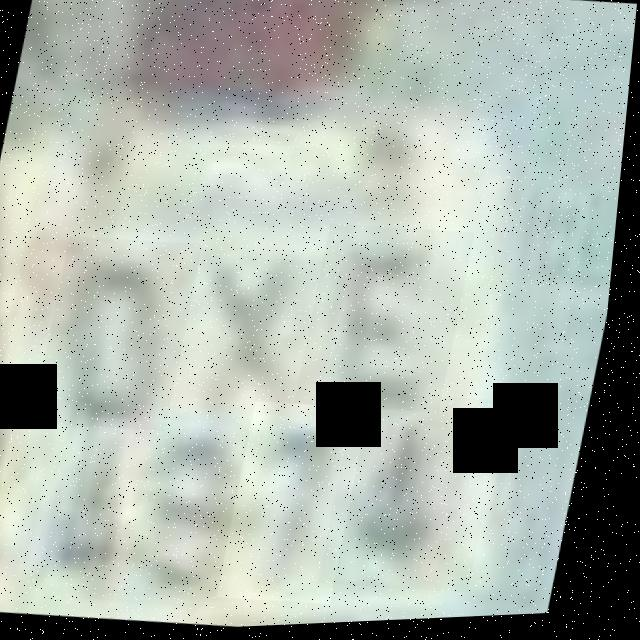4: (328, 389, 515, 602), (22, 408, 188, 615)
7: (227, 400, 378, 611)
9: (114, 402, 297, 615)
E: (301, 222, 481, 421)
O: (39, 232, 208, 437)
X: (160, 228, 345, 429)
